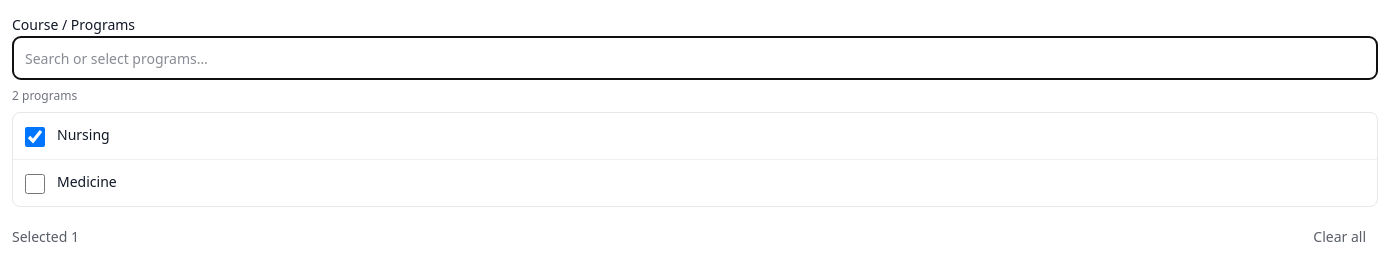
it: CatalogMultiSelect › clears every selection in count mode
The image size is (1390, 276).
Step 1. Click the button with aria-label "Clear all selected" → (1340, 237), box [1301,215,1378,259]
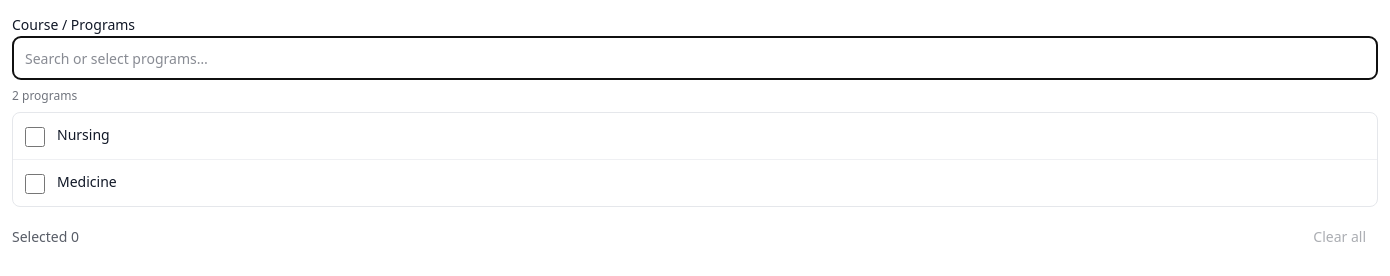
Check: the checkbox labelled "Nursing" is not checked, box [25,127,45,147]
